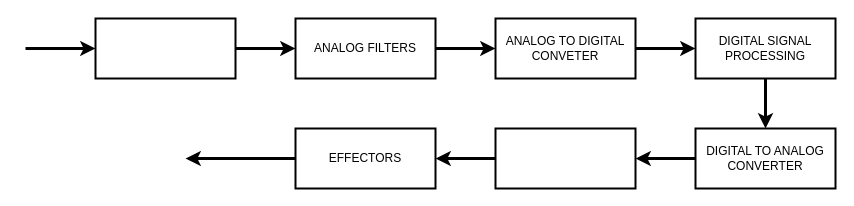
This 854x206 diagram has some shape labels left out. The centre of each missing label's shape, as x and y in pixels:
ANALOG AMPLIFIERS: point 565,158
SENSOR: point 165,48
